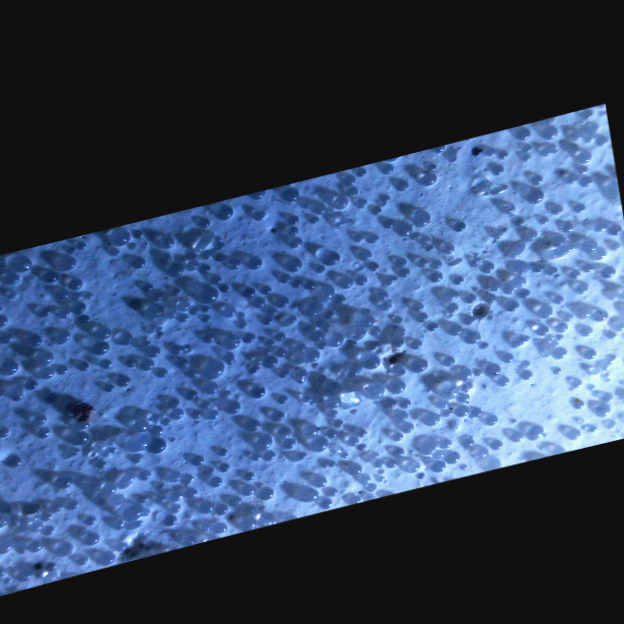GrassBeadSeg: (101, 275, 392, 563), (128, 204, 381, 473), (127, 311, 372, 451), (123, 348, 315, 519), (169, 337, 397, 442), (464, 125, 559, 344), (476, 290, 619, 408), (202, 418, 344, 529), (471, 285, 609, 380), (3, 508, 151, 583), (197, 409, 385, 467), (358, 370, 472, 464), (366, 303, 555, 357), (10, 374, 131, 457), (384, 156, 453, 284), (149, 438, 308, 489), (115, 230, 342, 265), (314, 357, 429, 426), (4, 240, 86, 335), (396, 129, 530, 187), (419, 329, 482, 452), (167, 253, 254, 342), (454, 289, 565, 358), (529, 291, 622, 373), (83, 347, 184, 422), (61, 255, 218, 301), (376, 220, 462, 300), (8, 447, 117, 509), (485, 349, 551, 451), (130, 367, 225, 436), (15, 263, 112, 329), (74, 358, 149, 443), (341, 278, 463, 330), (191, 409, 367, 445), (309, 423, 534, 451), (323, 386, 437, 441), (460, 425, 597, 469), (282, 369, 360, 445), (51, 488, 196, 528), (112, 236, 218, 290), (225, 285, 336, 336), (69, 237, 174, 289), (158, 218, 210, 318), (511, 347, 566, 441), (329, 433, 403, 501), (75, 419, 149, 486), (277, 203, 325, 306), (447, 180, 483, 316), (283, 394, 368, 451), (208, 487, 338, 524), (44, 495, 166, 534), (218, 203, 432, 225), (446, 290, 514, 358), (470, 400, 584, 440), (222, 335, 266, 437), (159, 254, 237, 311), (511, 152, 583, 210), (548, 349, 610, 416), (86, 453, 144, 524), (55, 505, 136, 555), (422, 171, 544, 203), (353, 407, 482, 437), (250, 342, 373, 373), (254, 210, 309, 279), (257, 460, 336, 508), (497, 348, 596, 386), (331, 308, 421, 349), (194, 243, 224, 364), (0, 359, 20, 537), (161, 344, 306, 368), (522, 311, 573, 378), (386, 369, 470, 408), (548, 335, 602, 395), (351, 422, 412, 474), (384, 262, 495, 290), (508, 248, 589, 285), (0, 263, 183, 279), (361, 163, 394, 251), (134, 504, 266, 526), (445, 398, 501, 448), (178, 344, 299, 367), (315, 460, 418, 487), (85, 513, 177, 543), (402, 392, 468, 433), (40, 287, 70, 377), (216, 186, 300, 218), (93, 302, 163, 340), (153, 249, 206, 299), (224, 348, 286, 390), (526, 303, 545, 438), (380, 369, 404, 473), (142, 257, 189, 310), (78, 241, 190, 263), (158, 412, 284, 431), (228, 259, 289, 298), (55, 542, 127, 575), (518, 129, 592, 161), (311, 362, 357, 413), (173, 332, 279, 354), (351, 370, 406, 411), (18, 502, 62, 552), (162, 417, 228, 450), (394, 271, 435, 324), (250, 356, 285, 417), (427, 244, 475, 288), (167, 274, 215, 317), (163, 502, 252, 525), (0, 293, 62, 325), (393, 398, 420, 471), (380, 167, 430, 206), (257, 331, 324, 360), (168, 416, 344, 427), (125, 438, 169, 482), (485, 414, 581, 434), (182, 359, 230, 398), (362, 326, 549, 336), (204, 304, 235, 363), (514, 267, 610, 286), (289, 198, 361, 223), (29, 496, 79, 532), (399, 178, 438, 224), (37, 277, 82, 316), (398, 315, 454, 346), (302, 428, 368, 454), (202, 466, 260, 495), (152, 435, 272, 449), (137, 332, 255, 346), (147, 283, 199, 314), (296, 451, 338, 489), (283, 439, 325, 477), (268, 339, 305, 382), (149, 306, 207, 333), (84, 247, 114, 299), (581, 377, 612, 427), (471, 421, 517, 454), (43, 414, 80, 455), (351, 187, 372, 259), (457, 405, 608, 415), (155, 346, 199, 378), (58, 315, 82, 373), (66, 502, 125, 525), (141, 468, 212, 487), (591, 366, 615, 422), (282, 193, 302, 260), (134, 228, 183, 255), (0, 304, 10, 436), (300, 436, 320, 502), (177, 456, 203, 506), (514, 261, 542, 306), (528, 147, 556, 192), (56, 300, 86, 342), (127, 240, 174, 266), (522, 275, 589, 293), (306, 175, 356, 199), (123, 494, 147, 544), (284, 250, 341, 271), (118, 308, 164, 334), (584, 310, 608, 359), (302, 301, 321, 362), (313, 341, 357, 367), (12, 387, 37, 432), (441, 405, 467, 448), (451, 156, 487, 187), (388, 357, 418, 394), (2, 537, 71, 553), (31, 276, 47, 345), (563, 313, 617, 333), (349, 277, 366, 339), (313, 214, 394, 227), (277, 395, 338, 412), (417, 339, 454, 367), (1, 272, 20, 326), (49, 554, 88, 580), (18, 539, 44, 578), (340, 451, 380, 476), (448, 393, 470, 438), (147, 329, 192, 351), (301, 283, 330, 317), (367, 458, 397, 490), (326, 336, 346, 383), (510, 417, 588, 429), (151, 408, 184, 436), (0, 507, 13, 578), (395, 399, 411, 456), (426, 165, 437, 247), (228, 339, 275, 358), (370, 316, 397, 349), (396, 210, 431, 235), (330, 316, 376, 335), (24, 543, 56, 570), (185, 300, 235, 317), (81, 421, 115, 446), (503, 203, 520, 252), (187, 258, 262, 269), (479, 413, 498, 456), (323, 309, 357, 333), (417, 462, 468, 478), (219, 282, 240, 320), (597, 331, 618, 369), (76, 474, 114, 495), (38, 344, 110, 355), (578, 378, 613, 400), (18, 257, 77, 270), (526, 230, 546, 268), (202, 500, 255, 514), (76, 424, 149, 434), (110, 229, 138, 255), (3, 350, 55, 364), (237, 306, 270, 328), (205, 305, 277, 315), (258, 198, 313, 211), (382, 164, 409, 190), (200, 263, 210, 333), (105, 474, 146, 491), (130, 358, 167, 376), (119, 358, 154, 377), (203, 219, 225, 249), (134, 257, 200, 267), (25, 366, 55, 388), (6, 270, 59, 282), (223, 278, 302, 286), (76, 446, 106, 467), (363, 354, 382, 387), (29, 330, 70, 345), (519, 429, 580, 439), (431, 243, 447, 281), (6, 415, 45, 430), (367, 379, 396, 399), (351, 474, 371, 502), (505, 359, 530, 381), (168, 389, 198, 407), (473, 367, 562, 373), (11, 377, 39, 396), (401, 447, 432, 463), (177, 333, 215, 346), (87, 523, 122, 537), (226, 461, 253, 479), (441, 408, 452, 452), (594, 221, 607, 258), (185, 367, 200, 399), (377, 471, 425, 481), (176, 396, 210, 410), (172, 409, 219, 419), (199, 455, 230, 470), (59, 291, 76, 318), (482, 342, 558, 348), (38, 303, 83, 313), (30, 519, 44, 551), (323, 494, 360, 506), (399, 399, 411, 435), (0, 515, 8, 569), (587, 383, 596, 431), (413, 408, 452, 419), (0, 567, 33, 580), (42, 511, 95, 519), (162, 238, 204, 248), (372, 452, 477, 456), (558, 235, 590, 248), (419, 399, 448, 413), (563, 322, 592, 336), (171, 471, 181, 511), (533, 229, 558, 245), (1, 309, 13, 342), (450, 326, 461, 362), (241, 486, 274, 498), (576, 308, 593, 331), (63, 308, 89, 323), (328, 427, 367, 437), (357, 168, 367, 206), (144, 480, 166, 497), (605, 392, 615, 428), (320, 328, 356, 338), (253, 367, 288, 377), (292, 214, 320, 226), (144, 335, 159, 357), (200, 472, 222, 487), (192, 305, 211, 322), (103, 453, 143, 461), (489, 261, 500, 290), (502, 353, 531, 364), (571, 378, 584, 402), (94, 337, 133, 345), (218, 448, 261, 455), (212, 252, 222, 282), (507, 283, 518, 310), (286, 426, 319, 435), (464, 438, 501, 446), (105, 357, 137, 366), (52, 556, 87, 564), (539, 131, 559, 145), (156, 314, 181, 325), (204, 251, 225, 264), (585, 308, 606, 321), (381, 192, 391, 219), (0, 282, 18, 297), (203, 241, 219, 257), (215, 497, 230, 514), (83, 358, 111, 367), (236, 258, 261, 268), (201, 500, 220, 513), (62, 361, 89, 370), (156, 479, 166, 503), (206, 399, 218, 419), (475, 345, 483, 375), (171, 308, 188, 322), (183, 474, 197, 491), (329, 410, 339, 432), (136, 511, 150, 526), (496, 280, 512, 293), (251, 451, 260, 474), (595, 221, 615, 231), (545, 323, 567, 332), (372, 456, 385, 471), (289, 215, 299, 234), (37, 425, 51, 438), (171, 487, 185, 500), (242, 517, 256, 530), (296, 278, 316, 287), (319, 343, 348, 349), (259, 513, 272, 526), (48, 502, 62, 514), (172, 472, 193, 480), (8, 454, 22, 466), (58, 475, 72, 487), (91, 439, 105, 451), (335, 196, 349, 208), (288, 234, 302, 246), (282, 313, 296, 325), (264, 356, 278, 368), (251, 385, 265, 397), (226, 401, 240, 413), (246, 419, 260, 431), (262, 449, 276, 461), (214, 521, 228, 533), (327, 397, 341, 409), (432, 459, 446, 471), (426, 413, 440, 425), (395, 410, 409, 422), (487, 364, 501, 376), (275, 332, 285, 348), (587, 240, 599, 253), (242, 483, 255, 495), (447, 451, 460, 463), (205, 381, 218, 393), (350, 167, 367, 176), (361, 475, 377, 484), (229, 494, 242, 505), (279, 428, 293, 438), (72, 290, 87, 299), (443, 242, 455, 253), (347, 186, 359, 197), (454, 221, 467, 231), (610, 225, 623, 235), (603, 267, 616, 277), (381, 458, 396, 466), (429, 450, 444, 458), (552, 335, 564, 345), (143, 282, 156, 291), (546, 333, 562, 340), (572, 130, 583, 140), (315, 204, 327, 213), (418, 311, 428, 321), (499, 149, 509, 159), (486, 146, 496, 156), (519, 288, 530, 297), (570, 269, 581, 278), (562, 222, 573, 231), (400, 266, 410, 275), (397, 256, 407, 265), (281, 273, 291, 282), (414, 301, 424, 310), (261, 284, 271, 293), (433, 258, 443, 267), (454, 274, 464, 283), (465, 315, 475, 324), (448, 302, 458, 311), (466, 293, 476, 302), (547, 265, 557, 274), (553, 294, 563, 303), (584, 263, 594, 272), (532, 175, 542, 184), (578, 164, 588, 173), (568, 173, 578, 182), (522, 143, 532, 152), (586, 133, 595, 143), (596, 135, 606, 144), (493, 166, 503, 175), (420, 234, 430, 243), (372, 205, 382, 214), (610, 242, 621, 250), (255, 297, 264, 306), (419, 257, 428, 266), (583, 110, 592, 119), (369, 261, 379, 269), (358, 275, 368, 283), (316, 264, 326, 272), (382, 300, 392, 308), (245, 287, 255, 295), (369, 233, 379, 241), (429, 322, 439, 330), (486, 293, 496, 301), (493, 229, 503, 237), (514, 217, 524, 225), (575, 204, 585, 212), (539, 215, 549, 223), (581, 176, 591, 184), (521, 152, 531, 160), (372, 326, 381, 334), (336, 294, 345, 302), (263, 316, 272, 324), (355, 232, 364, 240), (553, 205, 562, 213)
